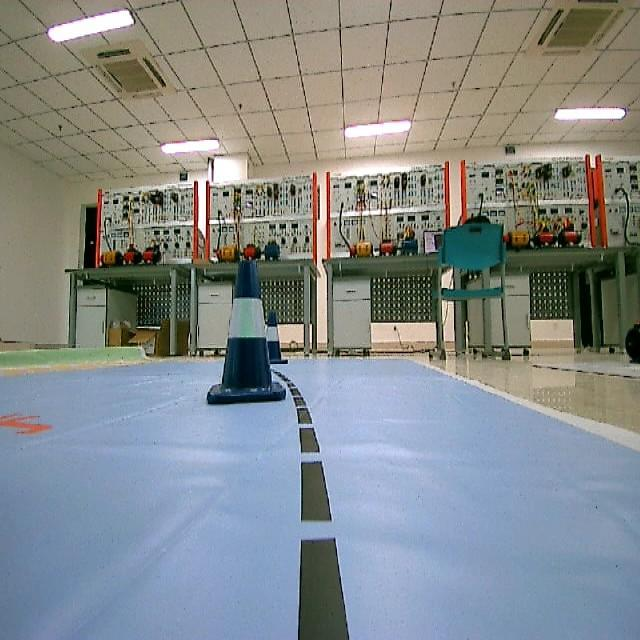obstacle: (201, 253, 295, 407)
